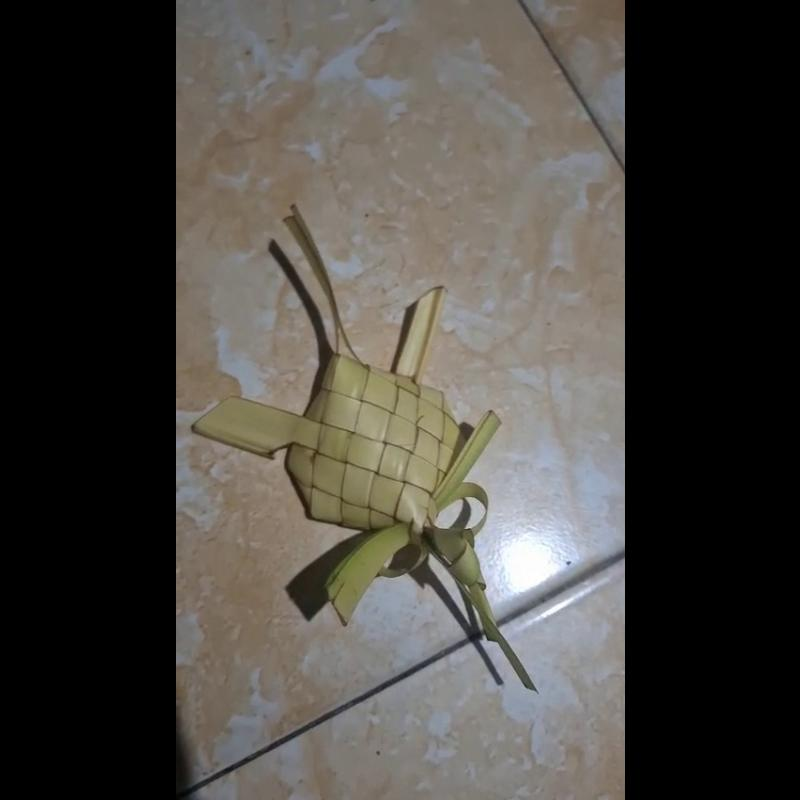Tipat Dampulan: (187, 203, 535, 690)
